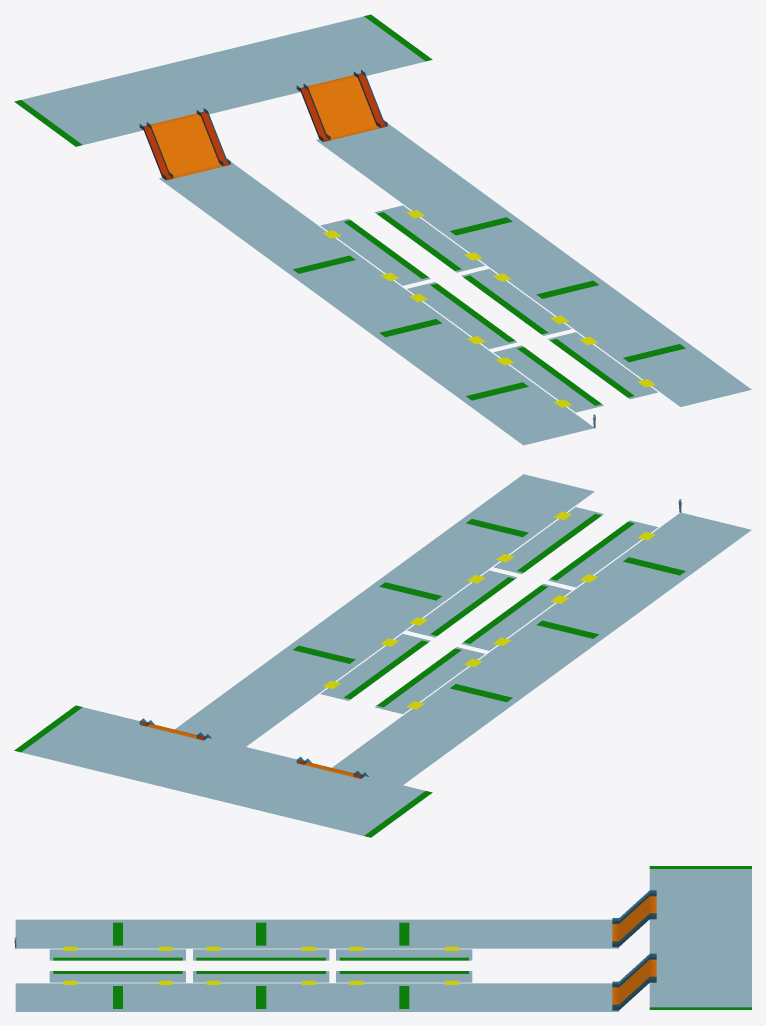
File: WorldGeometry.dae
The picture shows the model from 3 angles, top to bottom: view 1: azimuth 30°, elevation 25°; view 2: azimuth 150°, elevation 25°; view 3: azimuth 270°, elevation 25°; orthographic projection. The views are drawn at different scales.
Visible parts, largest first — view 1: FloorMesh (×9), StairMesh (×2); view 2: FloorMesh (×9), PortalMesh (×6); view 3: FloorMesh (×9), PortalMesh (×8), StairMesh (×2).
Boxes of the visible parts, x1=… form: FloorMesh (×9): x1=22, y1=16, x2=751, y2=445; StairMesh (×2): x1=148, y1=75, x2=379, y2=178; FloorMesh (×9): x1=21, y1=474, x2=751, y2=835; PortalMesh (×6): x1=344, y1=513, x2=634, y2=707; FloorMesh (×9): x1=15, y1=869, x2=751, y2=1011; PortalMesh (×8): x1=53, y1=866, x2=751, y2=1009; StairMesh (×2): x1=612, y1=896, x2=656, y2=1006.
Bounding box in the file's own units: 50 × 5 × 108.
